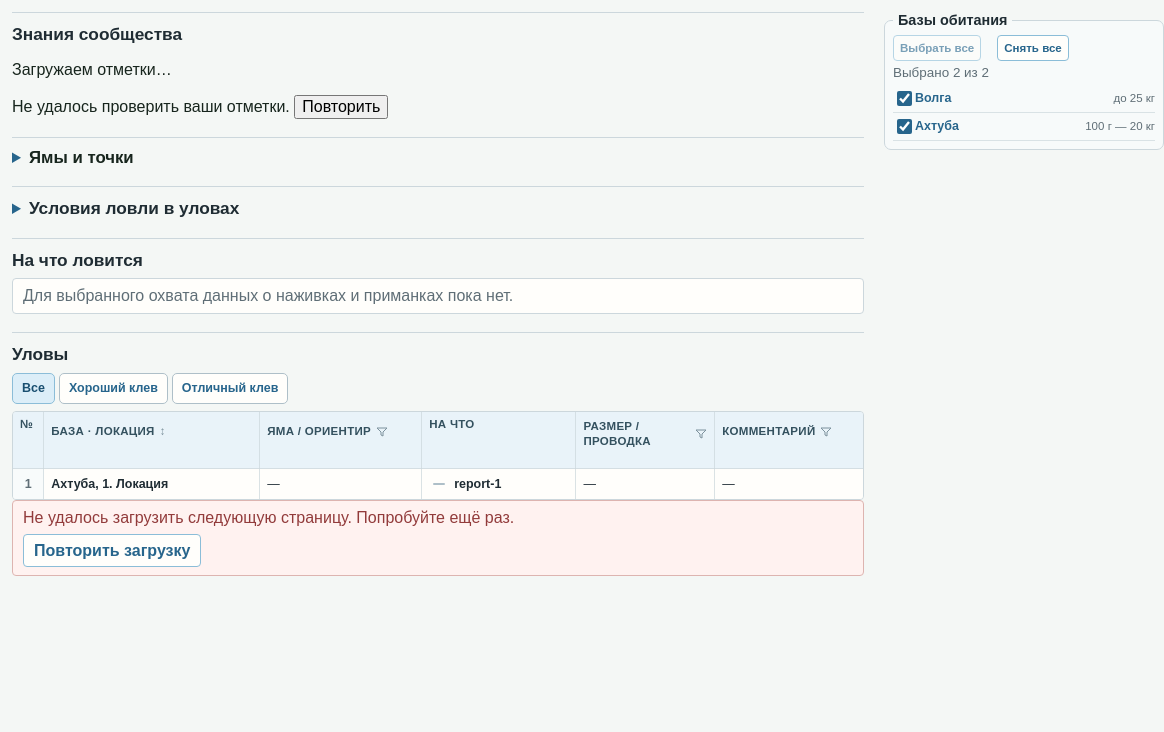
FishExplorer › stops observing after a load-more failure and offers a retry fallback
Expected: the text "report-1" is shown, [454,477,501,491]
Expected: the 3rd message shows "Не удалось загрузить следующую страницу. Попробуйте ещё раз.", [23,509,514,526]
Click the button "Повторить загрузку" at [112, 551], box [23,534,201,567]
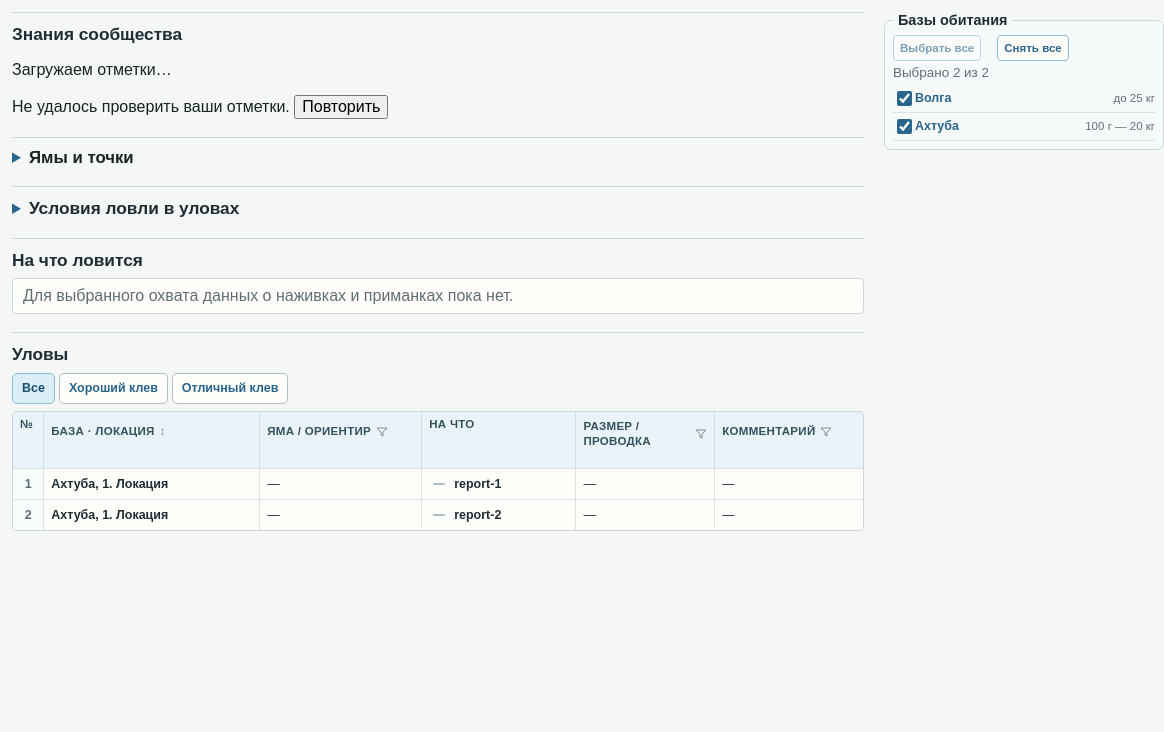
Result: the text "report-2" is shown at [454,508,501,522]
